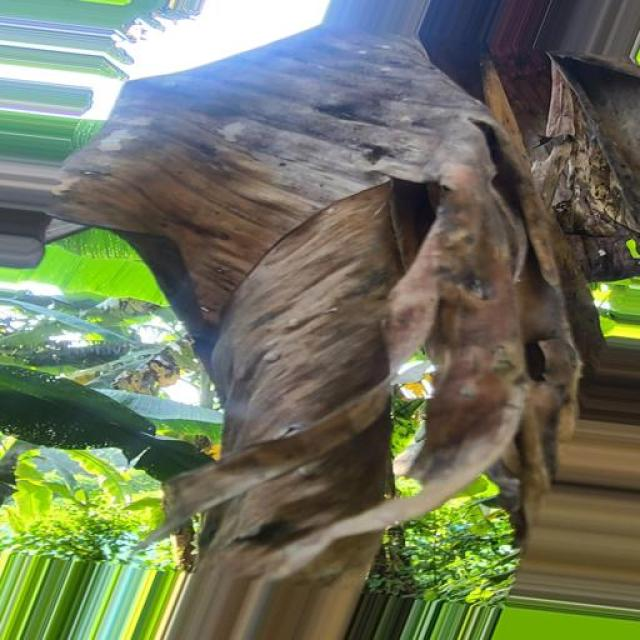Bract_mosaic_virus: (49, 0, 632, 640)
